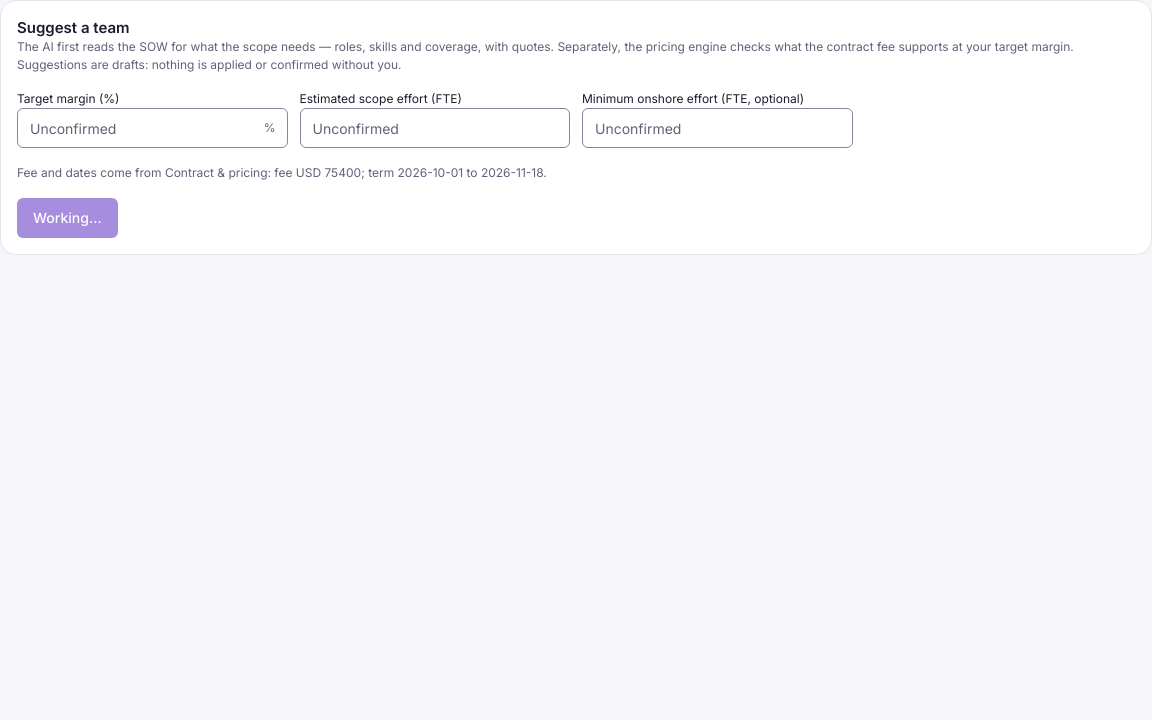
Scenario: PlanTeamPanel › missing fee is an explicit blocked state — demand still shows
Click the button with test id "plan-team-advise".
click(67, 218)  # box x1=17 y1=198 x2=118 y2=238
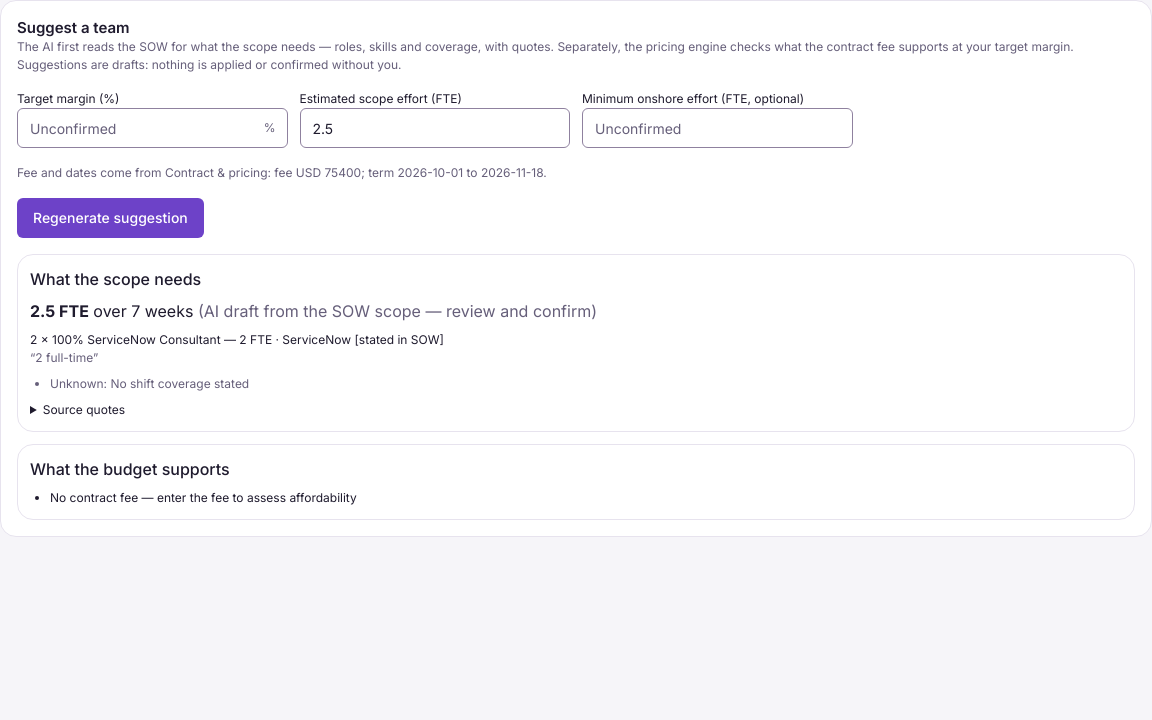
Check: the element with test id "plan-team-result" is shown, box x1=17 y1=254 x2=1135 y2=520
Check: the text "2.5 FTE" is shown, box x1=30 y1=301 x2=89 y2=321
Check: the list with test id "plan-team-blocked" shows "No contract fee", box x1=50 y1=490 x2=357 y2=505
